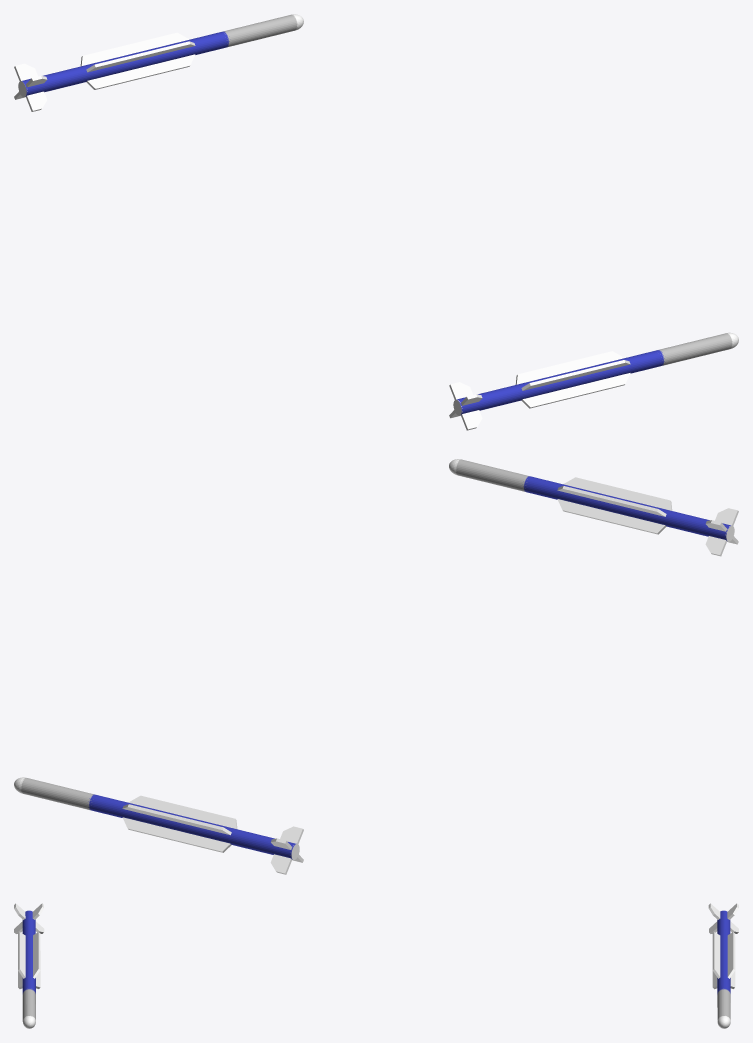
File: aam5df2a16.glb
3 renders of one model, top to bottom at view 1: azimuth 30°, elevation 25°; view 2: azimuth 150°, elevation 25°; view 3: azimuth 270°, elevation 25°, orthographic. The views are drawn at different scales.
Visible parts, largest first — view 1: 立方体.016, 立方体.045; view 2: 立方体.016, 立方体.045; view 3: 立方体.016, 立方体.045.
Part boxes in pixels (bbox=[...]): 立方体.016: bbox=[14, 14, 303, 111]; 立方体.045: bbox=[449, 332, 738, 430]; 立方体.016: bbox=[14, 777, 303, 874]; 立方体.045: bbox=[449, 459, 738, 556]; 立方体.016: bbox=[708, 903, 738, 1028]; 立方体.045: bbox=[14, 903, 44, 1028].
Bounding box in the file's own units: 4.09 × 0.4776 × 11.45.
3 materials, 1 textured.
